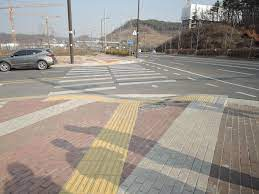guide_blocks: (80, 105, 137, 160), (60, 160, 124, 194), (49, 95, 138, 105)
